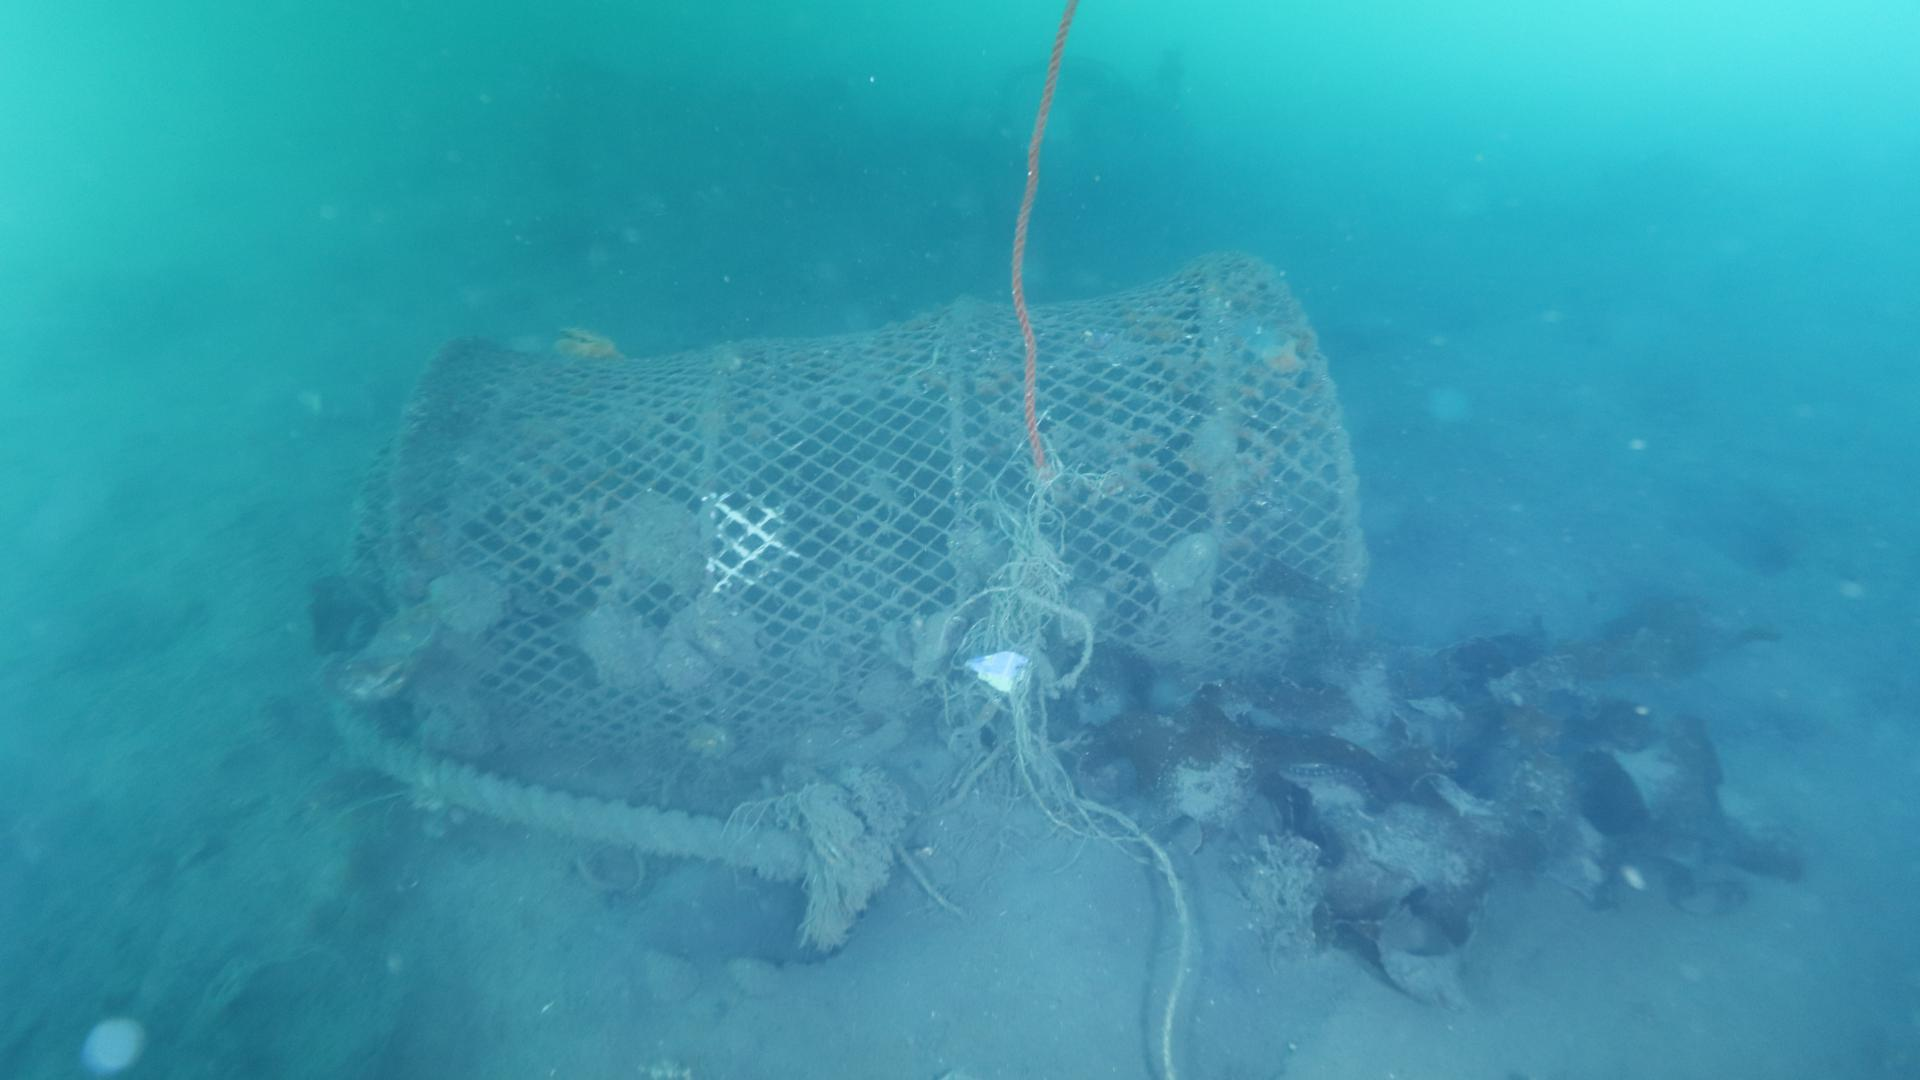bundle of ropes: (977, 0, 1098, 762)
rope: (328, 704, 798, 872)
spring fish trap: (344, 244, 1371, 778)
